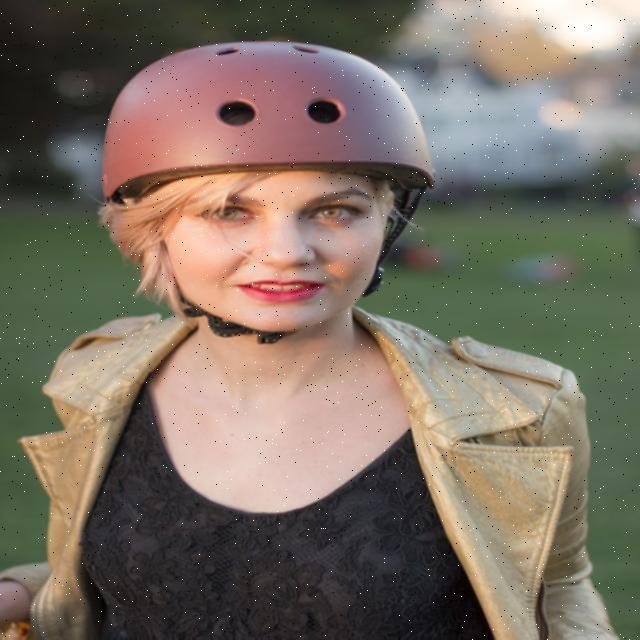helmet: (102, 40, 438, 348)
